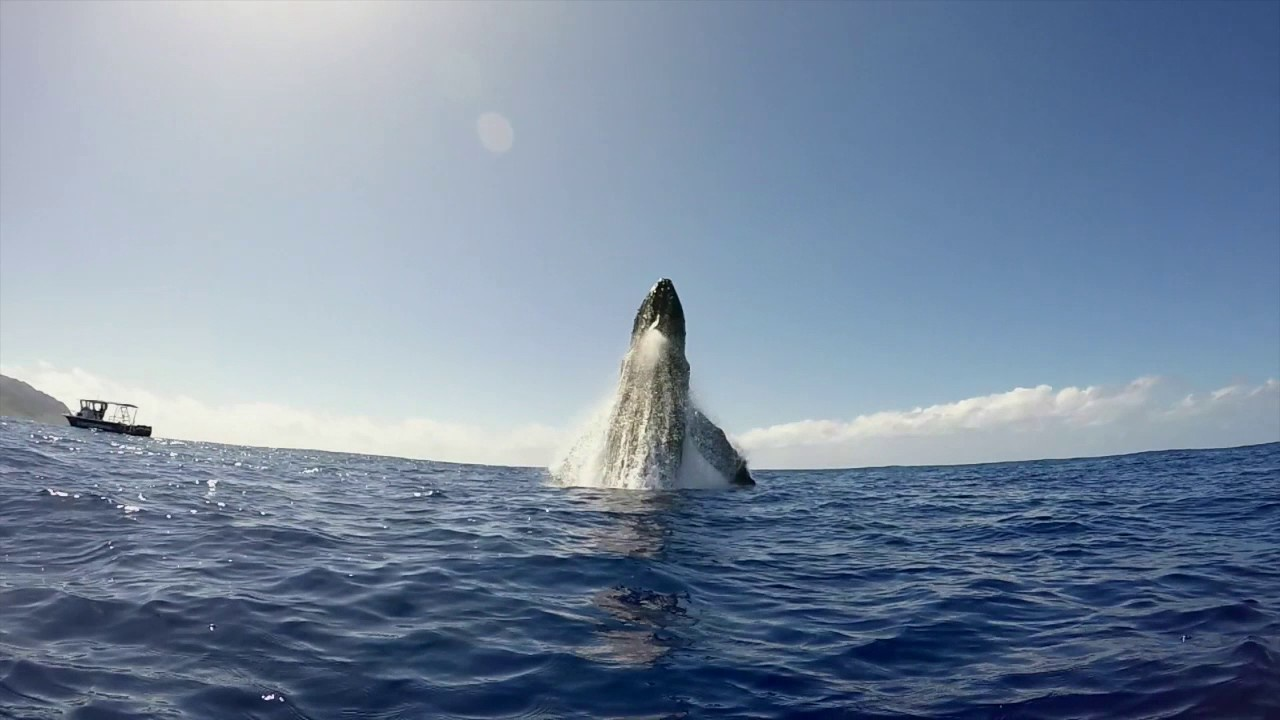humpback: (625, 269, 690, 495)
